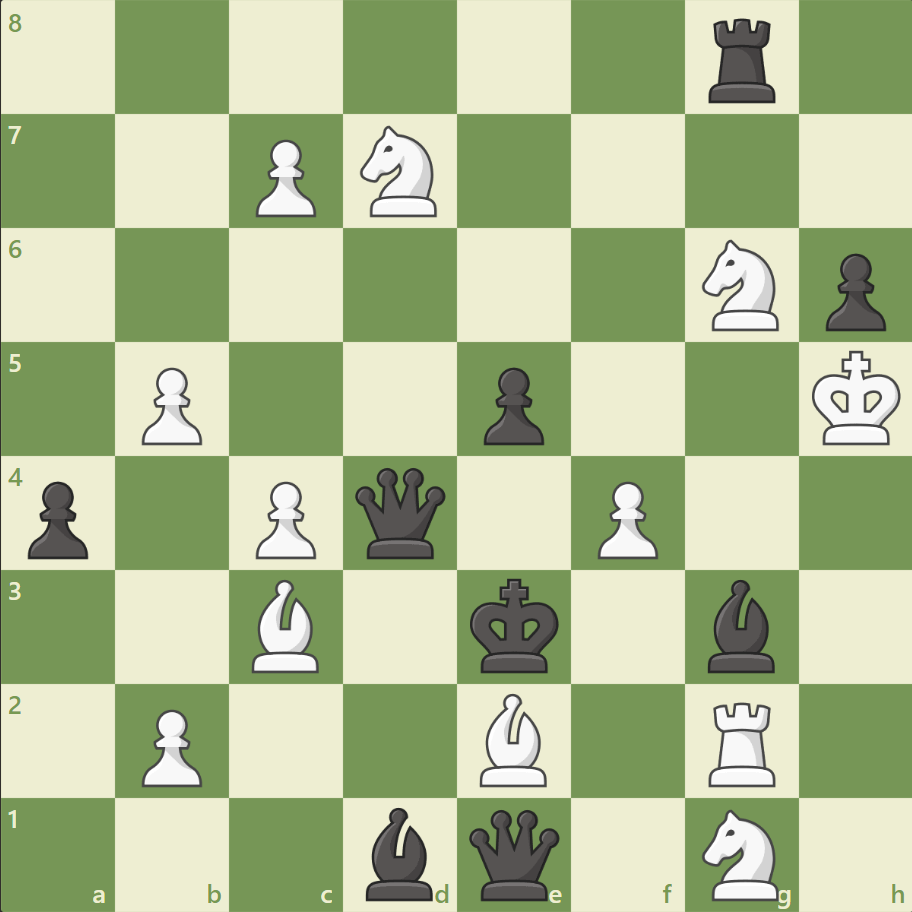B: (471, 687, 555, 790), (244, 574, 328, 676)
K: (806, 344, 906, 452)
N: (351, 121, 449, 223), (692, 234, 789, 337), (692, 802, 789, 904)
P: (247, 132, 322, 223), (133, 359, 208, 450), (247, 473, 322, 564), (133, 700, 208, 791), (588, 473, 662, 564)
R: (700, 693, 783, 790)
b: (358, 801, 442, 904), (698, 574, 782, 676)
k: (465, 571, 565, 679)
p: (474, 359, 549, 450), (20, 473, 95, 564), (815, 246, 889, 337)
q: (351, 463, 450, 562), (464, 804, 563, 903)
r: (700, 12, 783, 109)
